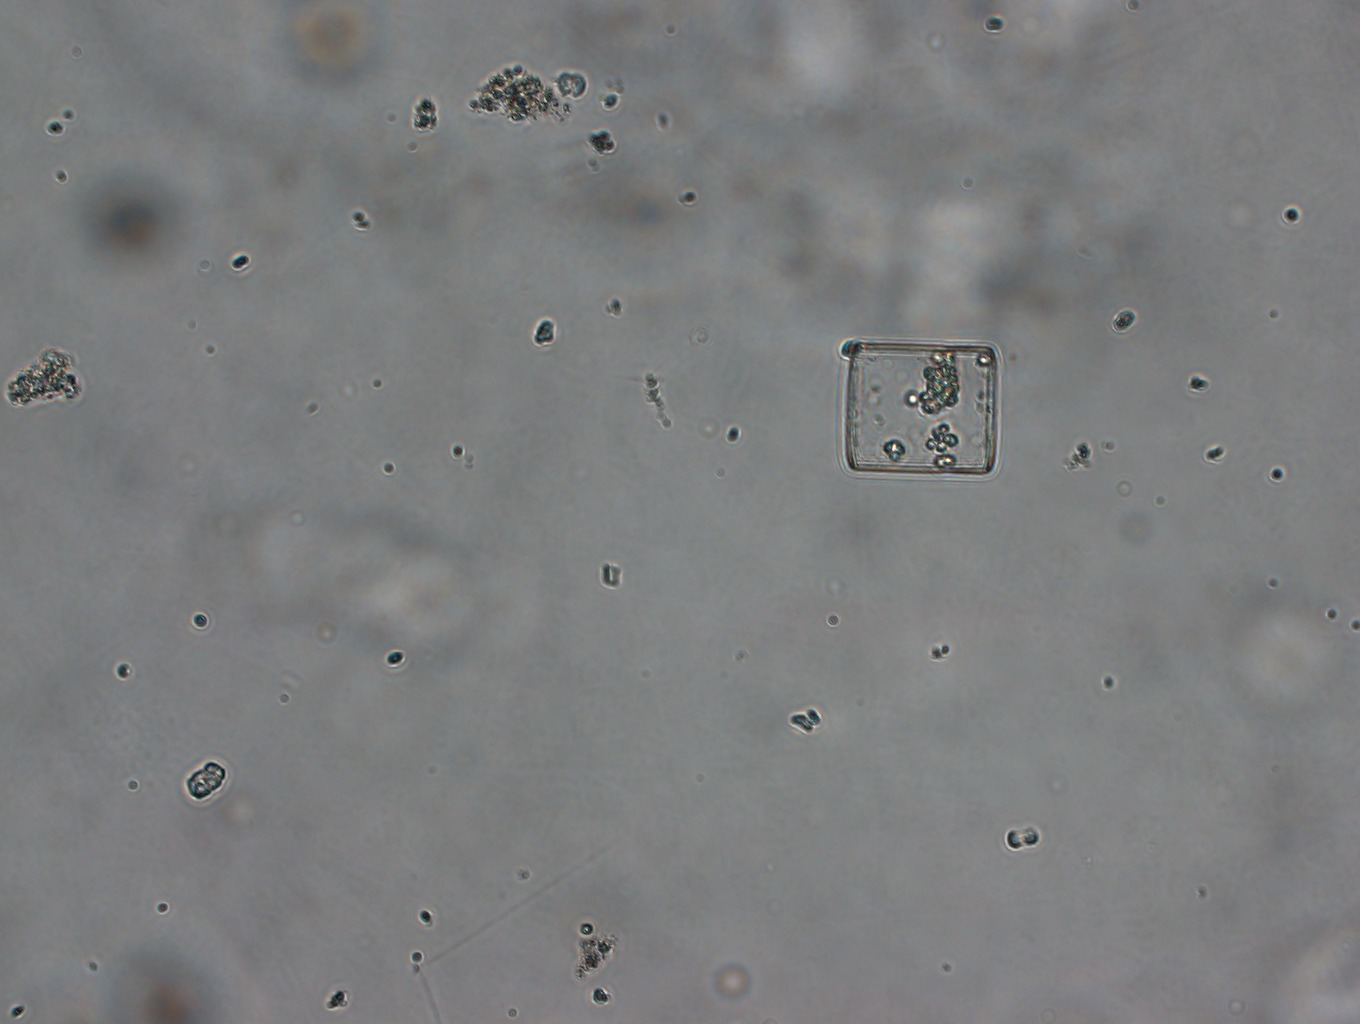guinardia flaccida: (810, 324, 1018, 493)
